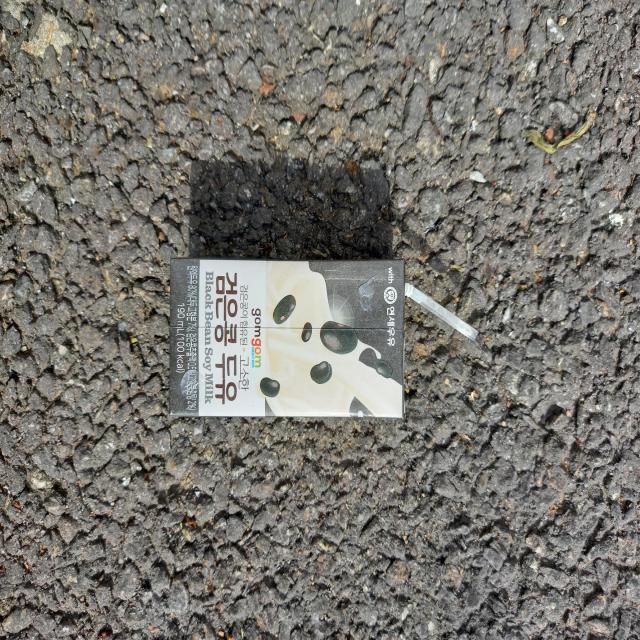paperpack: (169, 258, 405, 418)
